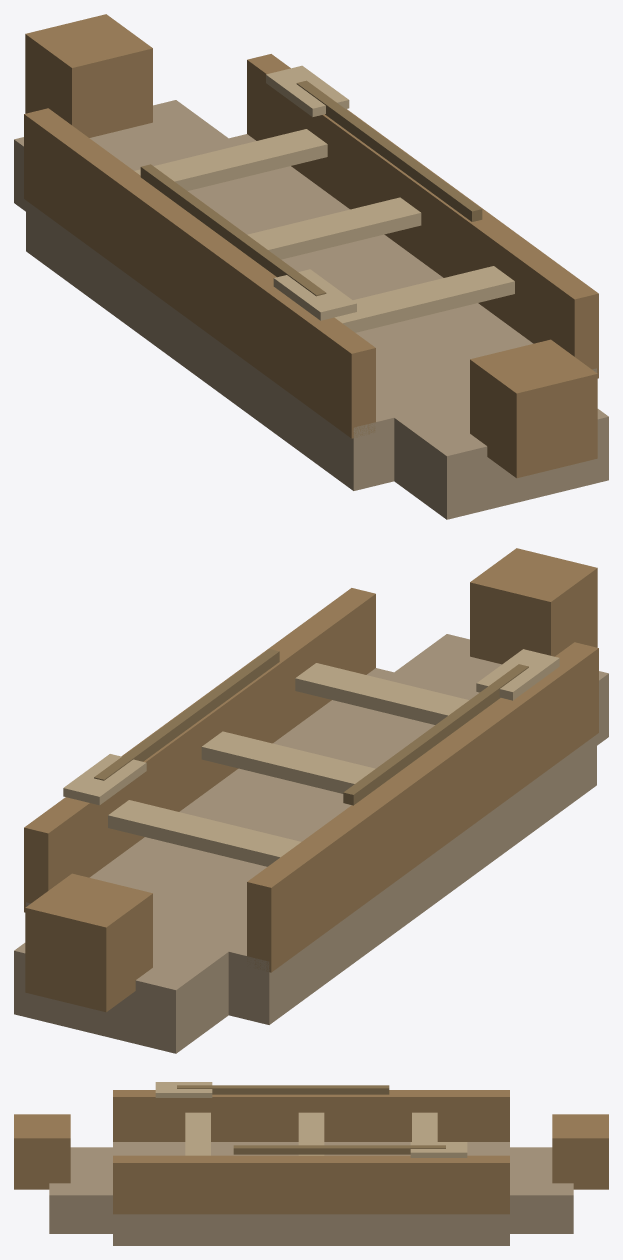
Rendered from prop_rowboat.glb.
3 views of the same model, one above another, from view 1: azimuth 30°, elevation 25°; view 2: azimuth 150°, elevation 25°; view 3: azimuth 270°, elevation 25° (orthographic). The views are drawn at different scales.
Visible parts, largest first — view 1: Prop_Rowboat; view 2: Prop_Rowboat; view 3: Prop_Rowboat.
Part boxes in pixels (x1,y1,x2,y2): Prop_Rowboat: (14,14,608,519); Prop_Rowboat: (14,548,608,1053); Prop_Rowboat: (14,1082,608,1245).
Bounding box in the file's own units: 1.22 × 0.725 × 4.2.
